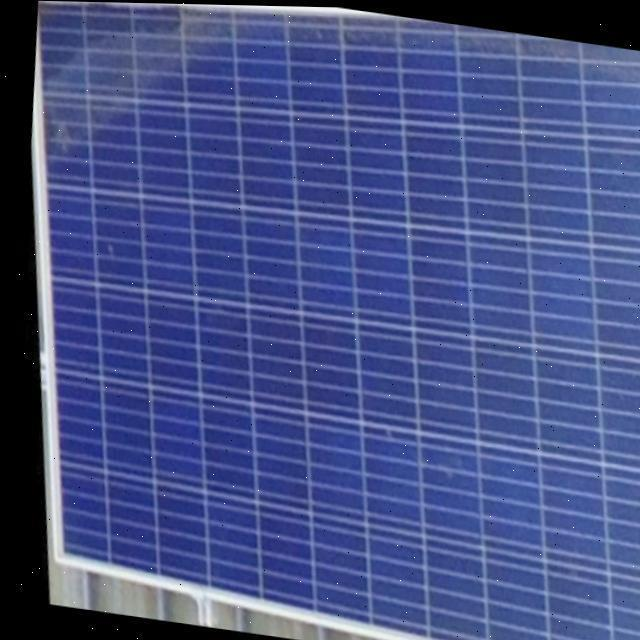Surface Contaminant: (25, 1, 253, 215), (234, 10, 640, 98)
